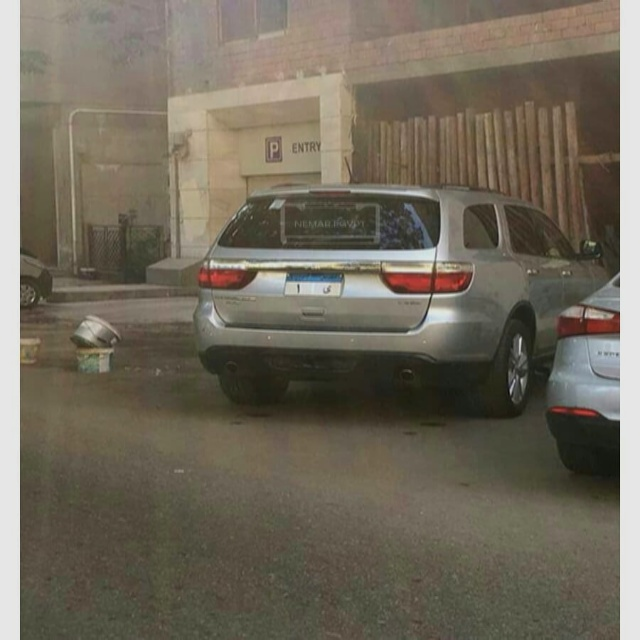License Plate: (282, 270, 346, 299)
